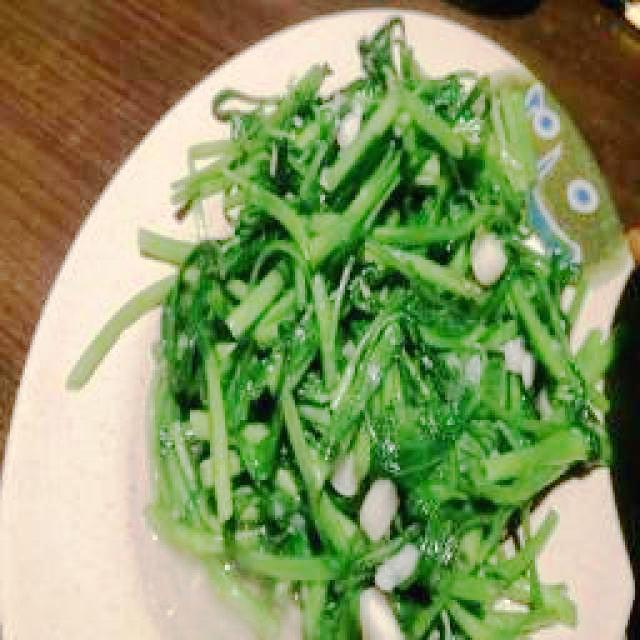water_spinach: (92, 37, 584, 626)
